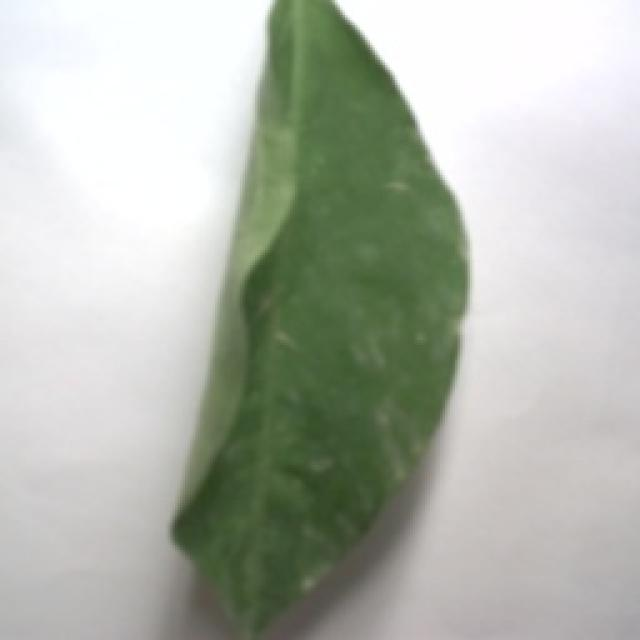Leaf: (174, 1, 471, 640)
